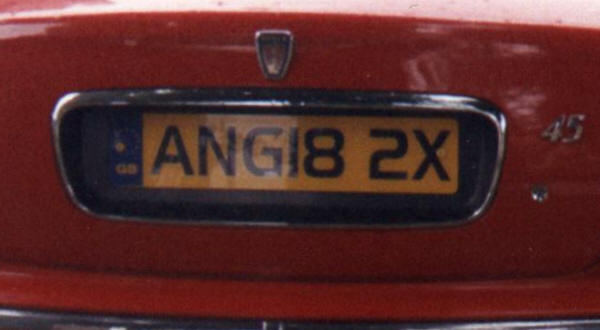license_plate: (110, 108, 459, 193)
